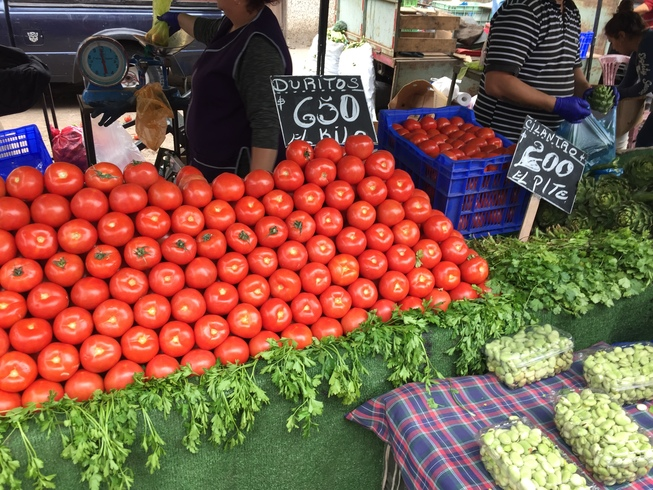precio: (274, 70, 384, 162), (509, 117, 593, 213)
